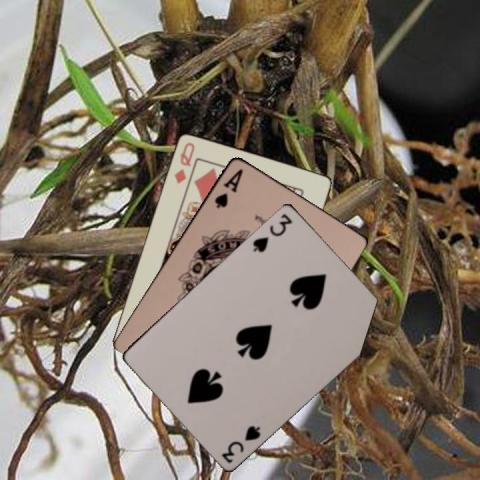3s: (249, 210, 294, 253), (218, 422, 262, 465)
As: (210, 165, 244, 209)
Qd: (171, 139, 196, 185)
